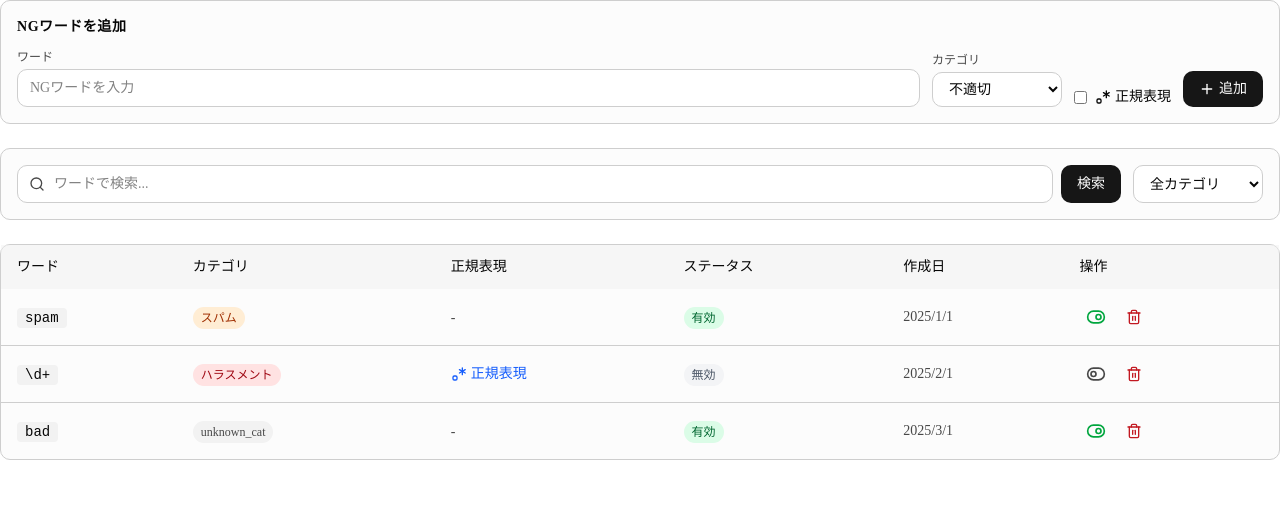
Test: NgWordList › shows error from createNgWord action
The image size is (1280, 505).
Type "dup" into the field with placeholder "NGワードを入力".
click(468, 88); type("dup")  # box 17,69 -> 920,107
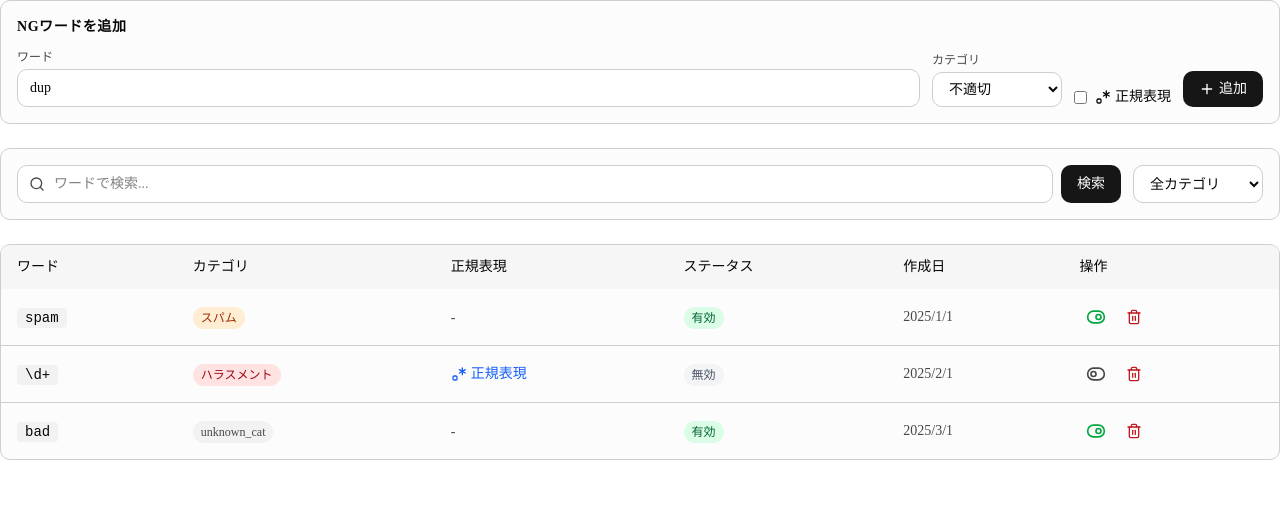
Click the button "追加".
click(1223, 89)  # box 1183,71 -> 1263,107
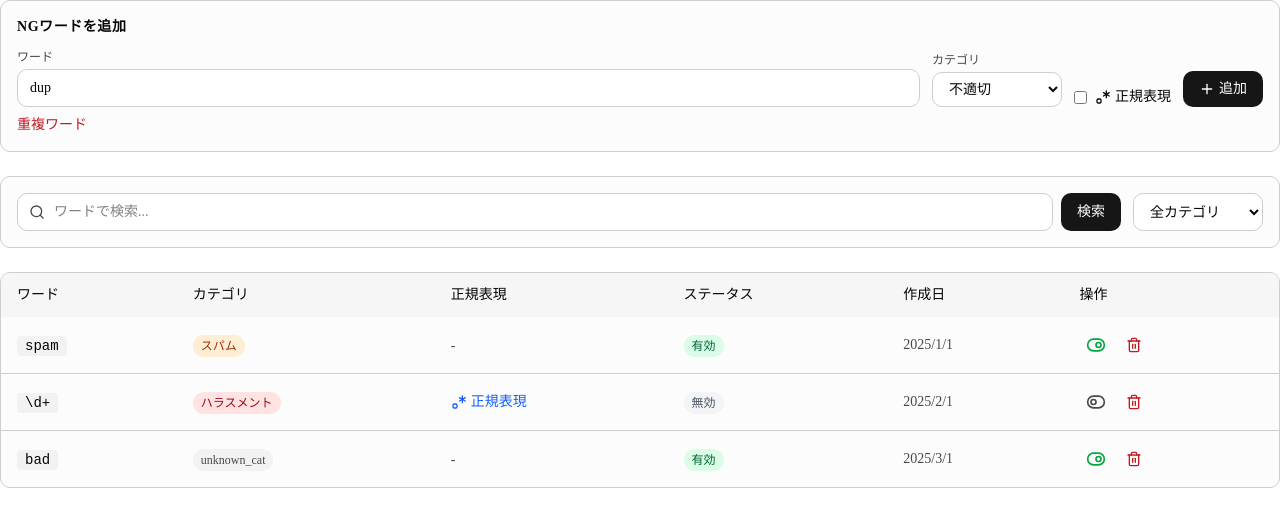
Expected: the text "重複ワード" is shown, 17,117 -> 87,132
